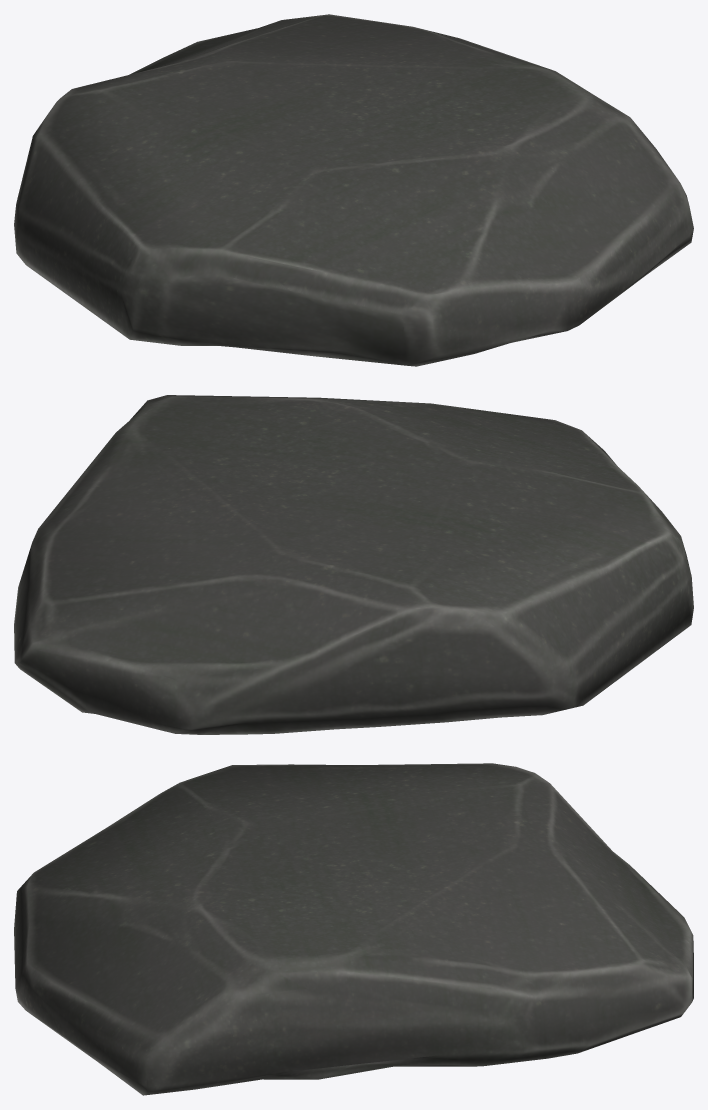
The model's file is Stylized Rocks 5.fbx.
3 views of the same model, one above another, from view 1: azimuth 30°, elevation 25°; view 2: azimuth 150°, elevation 25°; view 3: azimuth 270°, elevation 25° (orthographic). The views are drawn at different scales.
Visible parts, largest first — view 1: Stylized Rocks 5; view 2: Stylized Rocks 5; view 3: Stylized Rocks 5.
Part boxes in pixels (x1,y1,x2,y2): Stylized Rocks 5: [14, 14, 693, 366]; Stylized Rocks 5: [14, 395, 693, 734]; Stylized Rocks 5: [14, 763, 693, 1095].
Size of the model in its own units: 584 by 121 by 647.
Materials: 1 (1 with a texture image).
